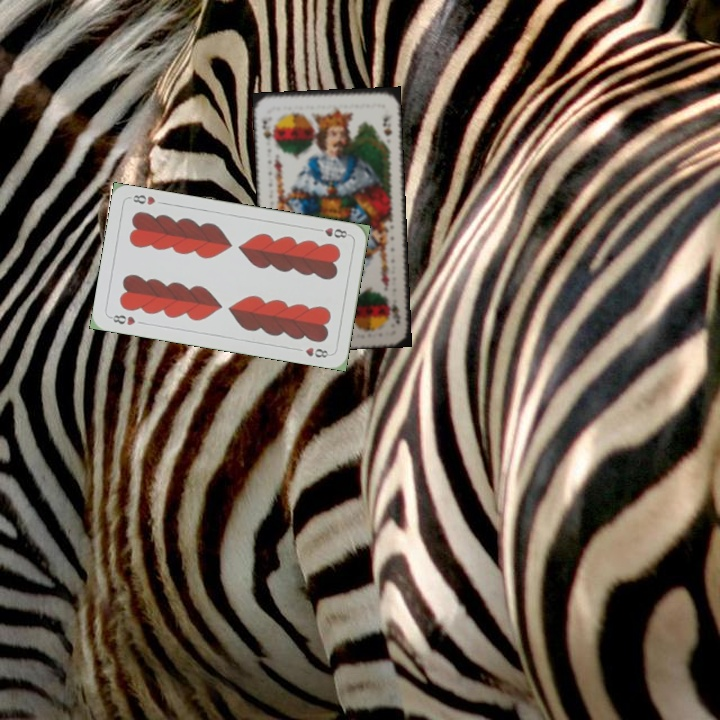H8: (312, 223, 352, 241), (106, 311, 138, 328)
SK: (258, 116, 277, 147), (386, 301, 403, 326)
